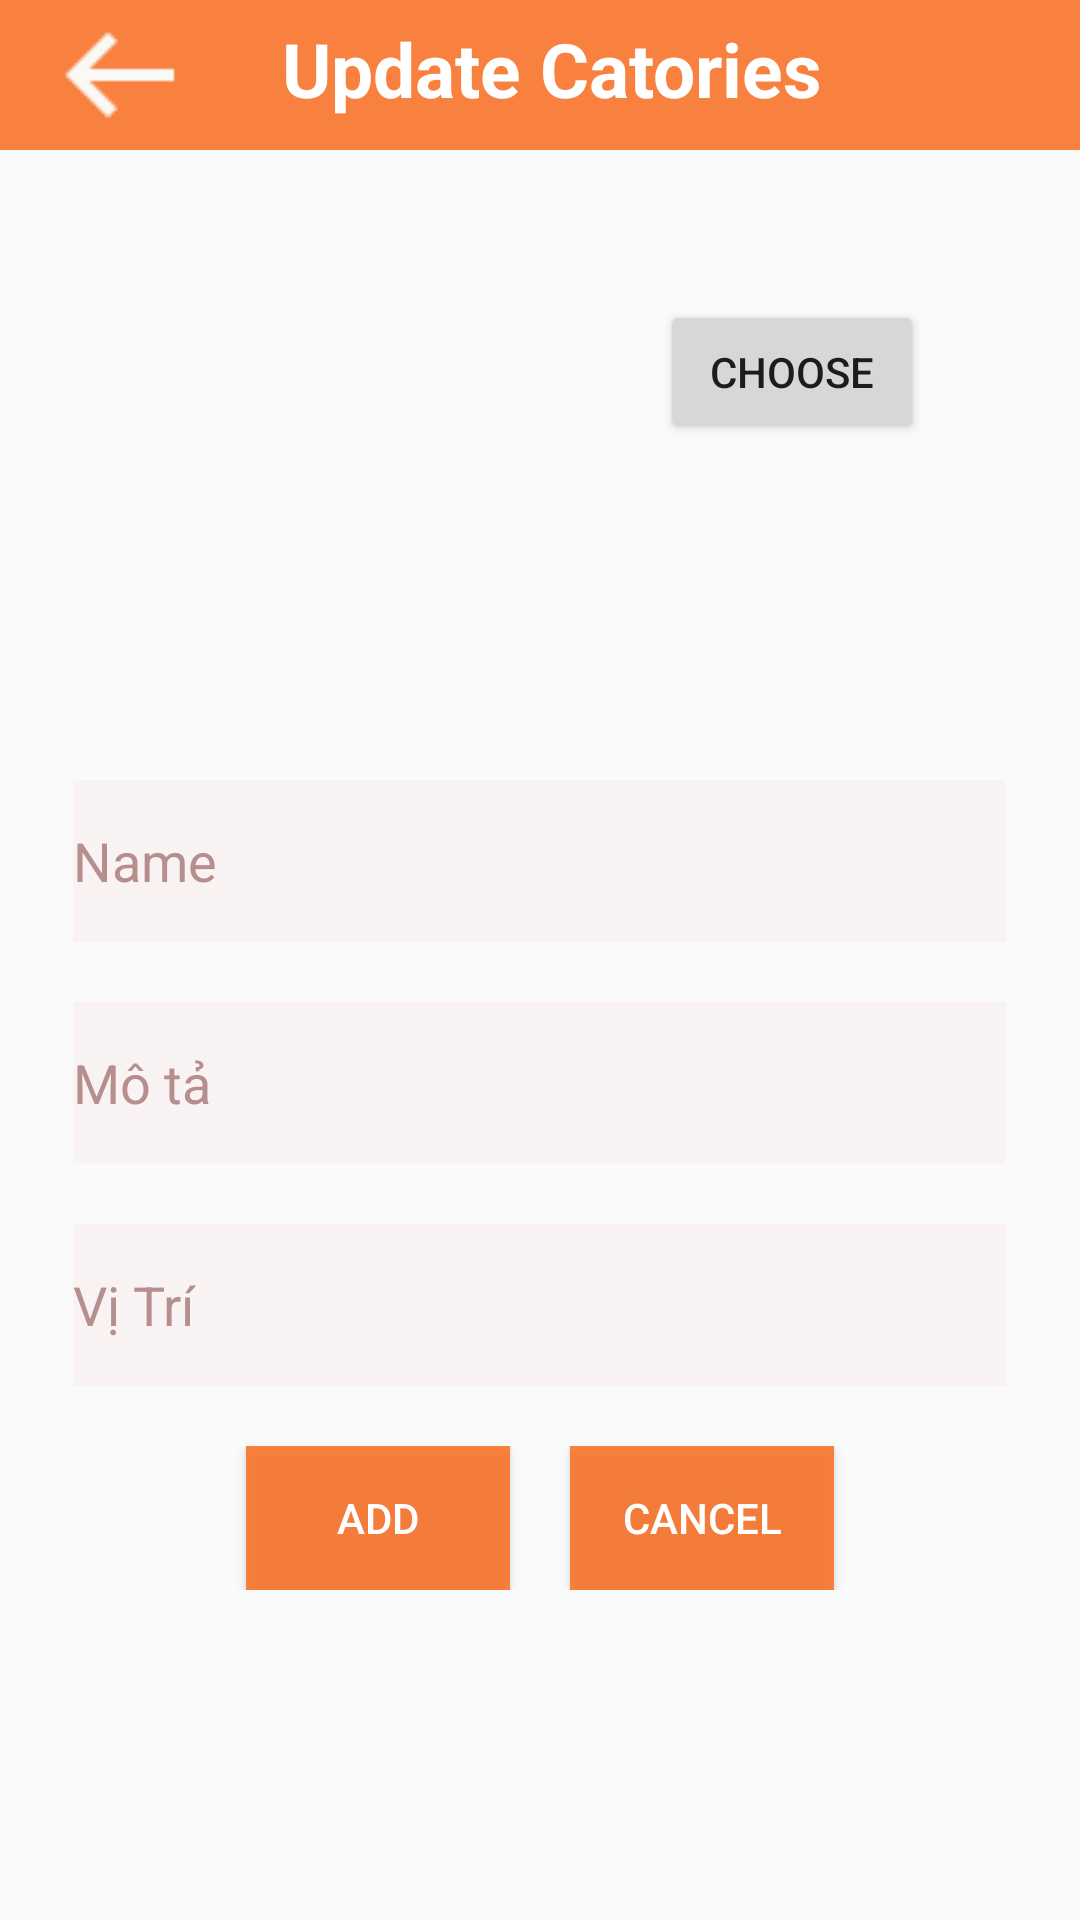

Icon bounding boxes for this 1080px x 1920px phone screenshot, format (x1, y1, x2, y2):
back: (65, 32, 175, 118)
